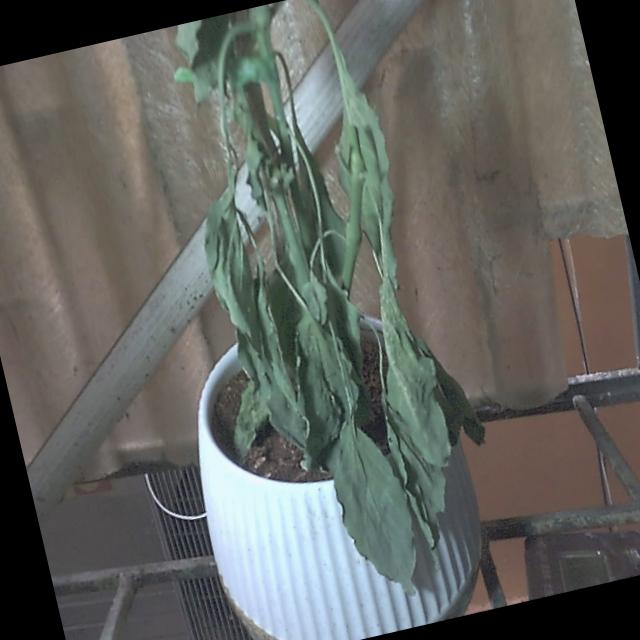Leaf: (328, 422, 415, 594), (379, 279, 450, 467), (417, 339, 484, 444), (233, 381, 268, 462)
